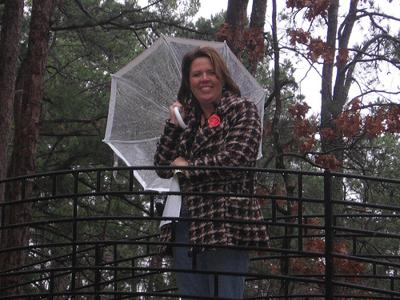person: (154, 47, 270, 298)
